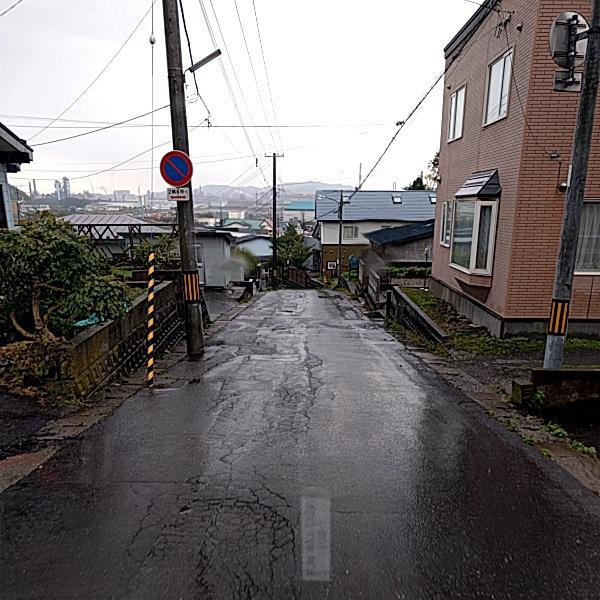D20: (118, 461, 325, 595)
